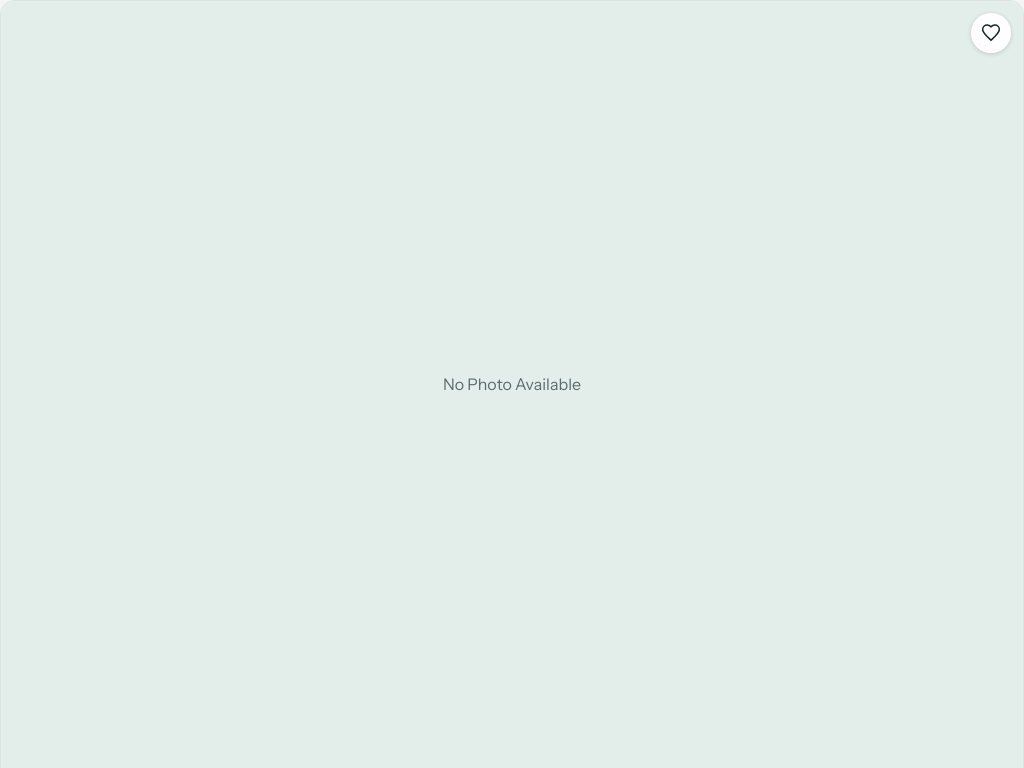
Test: heart toggles favorite without navigating
The image size is (1024, 768).
Click the button named "Save 42 Ocean Ave to favorites" at x=991, y=33, box [971,13,1011,53]
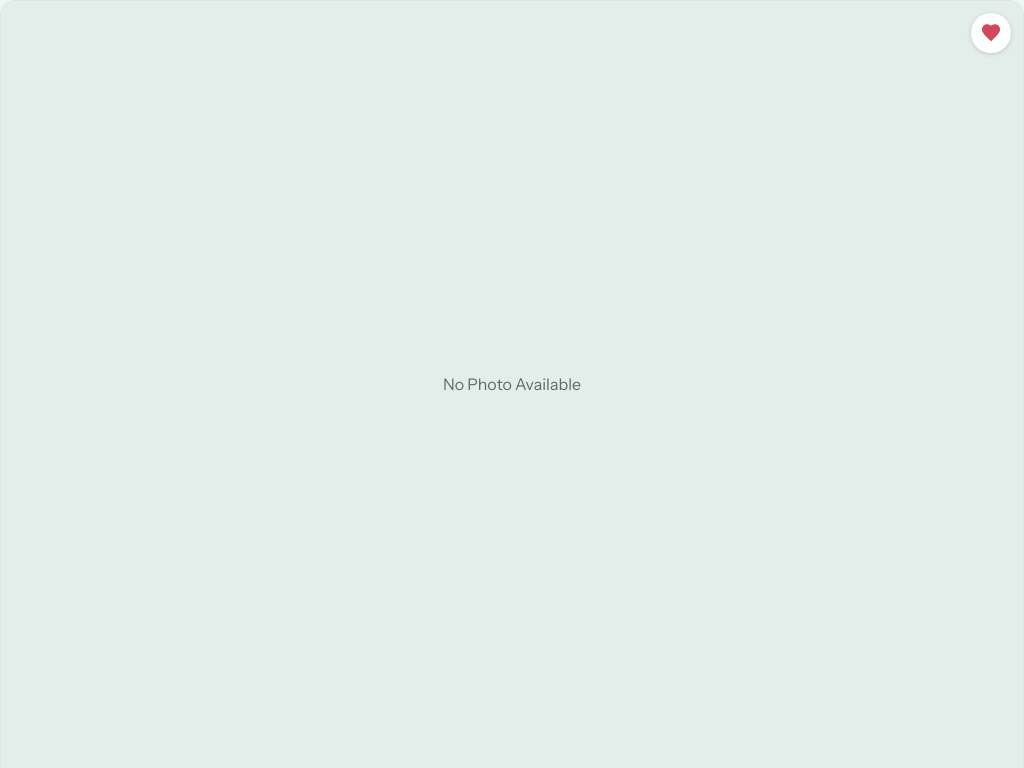
Check: the button named "Remove 42 Ocean Ave from favorites" is pressed, box [971,13,1011,53]
